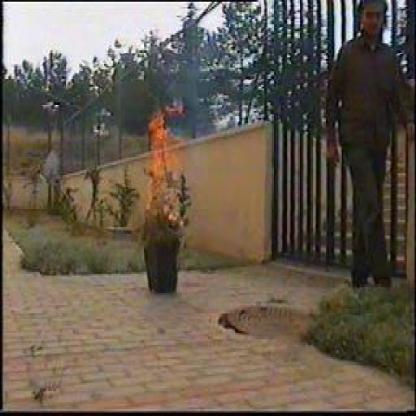fire: (144, 90, 187, 210)
